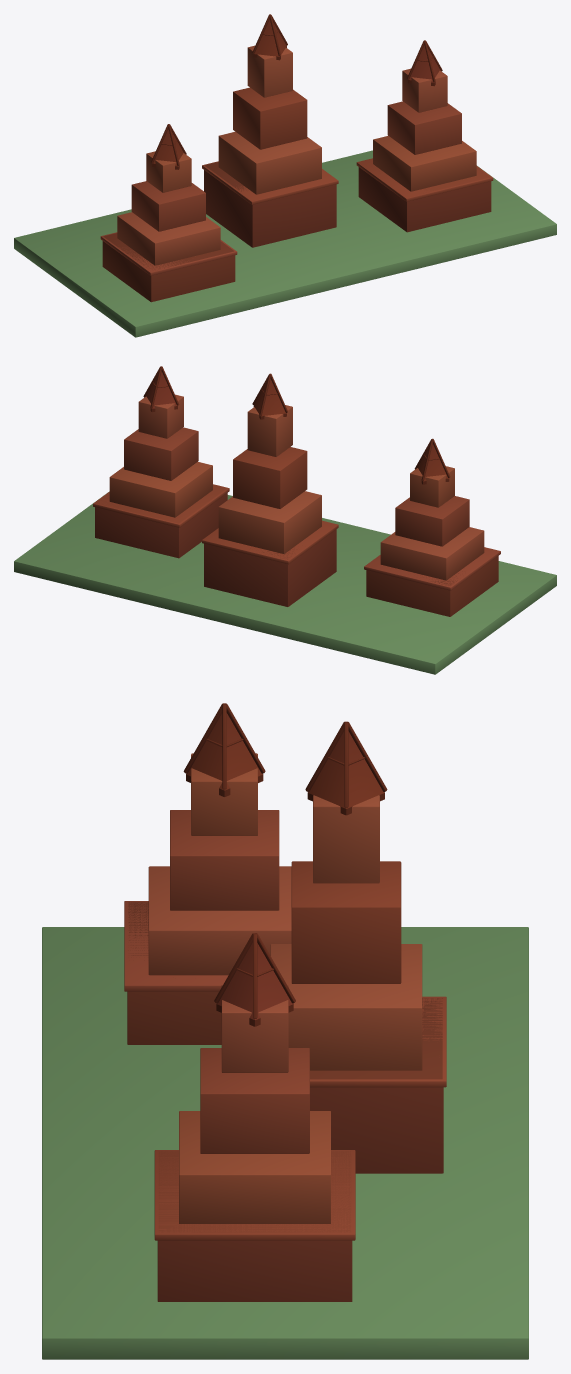
File: lm-myson.glb
The picture shows the model from 3 angles, top to bottom: view 1: azimuth 30°, elevation 25°; view 2: azimuth 150°, elevation 25°; view 3: azimuth 270°, elevation 25°; orthographic projection. The views are drawn at different scales.
Bounding box in the file's own units: 16 × 8.19 × 8.
